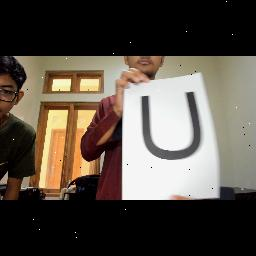u: (134, 88, 206, 168)
